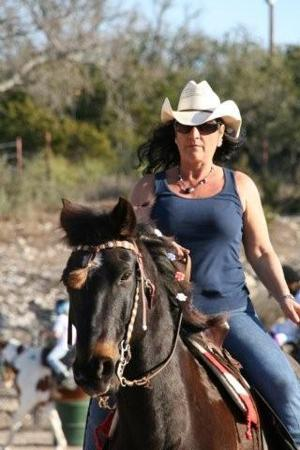person: (131, 79, 300, 450)
